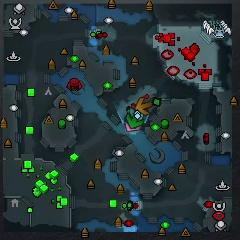x1: (125, 121, 140, 133)
x3: (128, 107, 150, 123)
x4: (125, 112, 144, 128)
x5: (137, 97, 153, 114)
